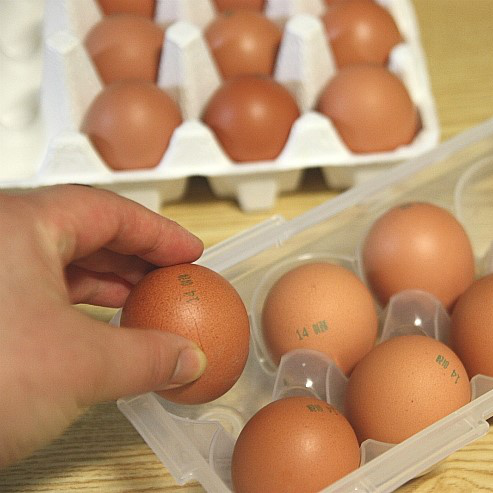egg: (234, 201, 492, 493), (84, 1, 424, 168), (112, 261, 251, 403)
